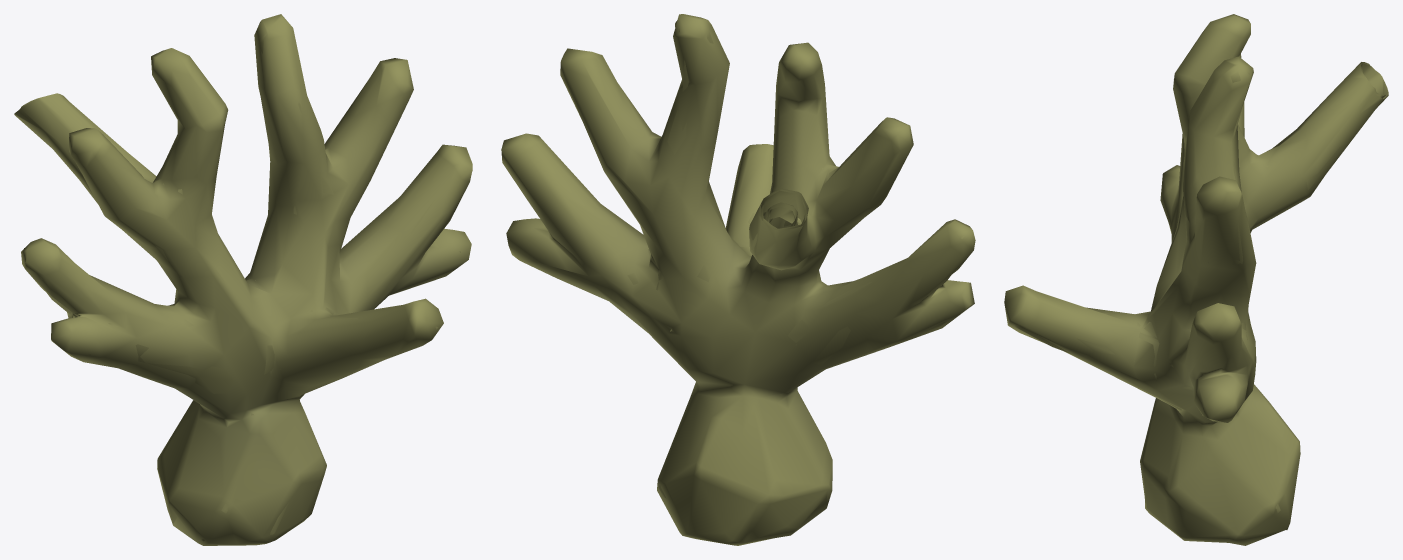
The model's file is gen3d-staghorn-coral-lod0.glb.
3 renders of one model, left to right at view 1: azimuth 30°, elevation 25°; view 2: azimuth 150°, elevation 25°; view 3: azimuth 270°, elevation 25°, orthographic. The views are drawn at different scales.
Visible parts, largest first — view 1: part_0; view 2: part_0; view 3: part_0.
Boxes of the visible parts, box(x1,y1,x2,y2) form: part_0: box(14, 14, 472, 545); part_0: box(501, 14, 975, 545); part_0: box(1004, 14, 1388, 545).
Bounding box in the file's own units: 0.9439 × 0.9967 × 0.7073.
